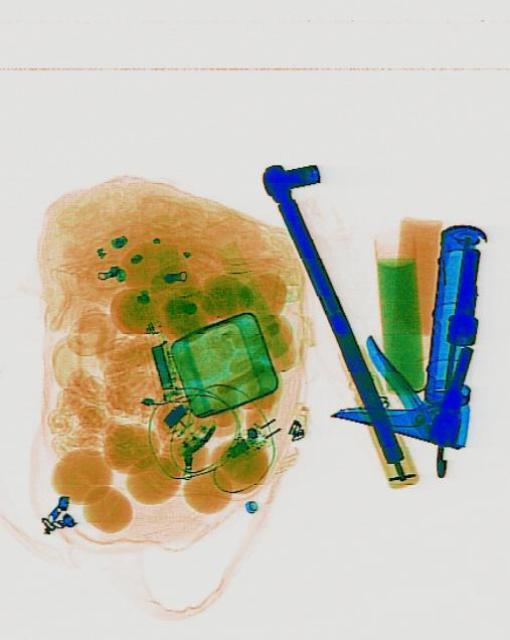Knife: (326, 209, 483, 449)
